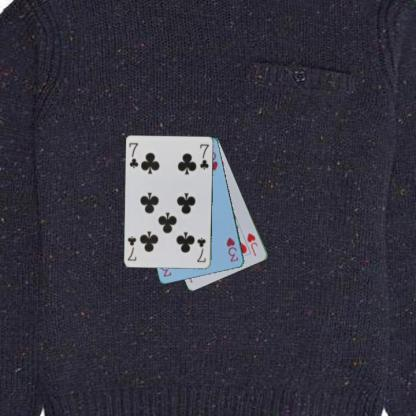3h: (223, 234, 240, 263)
7c: (126, 140, 140, 170), (195, 235, 207, 264)
Jh: (244, 231, 259, 257)
